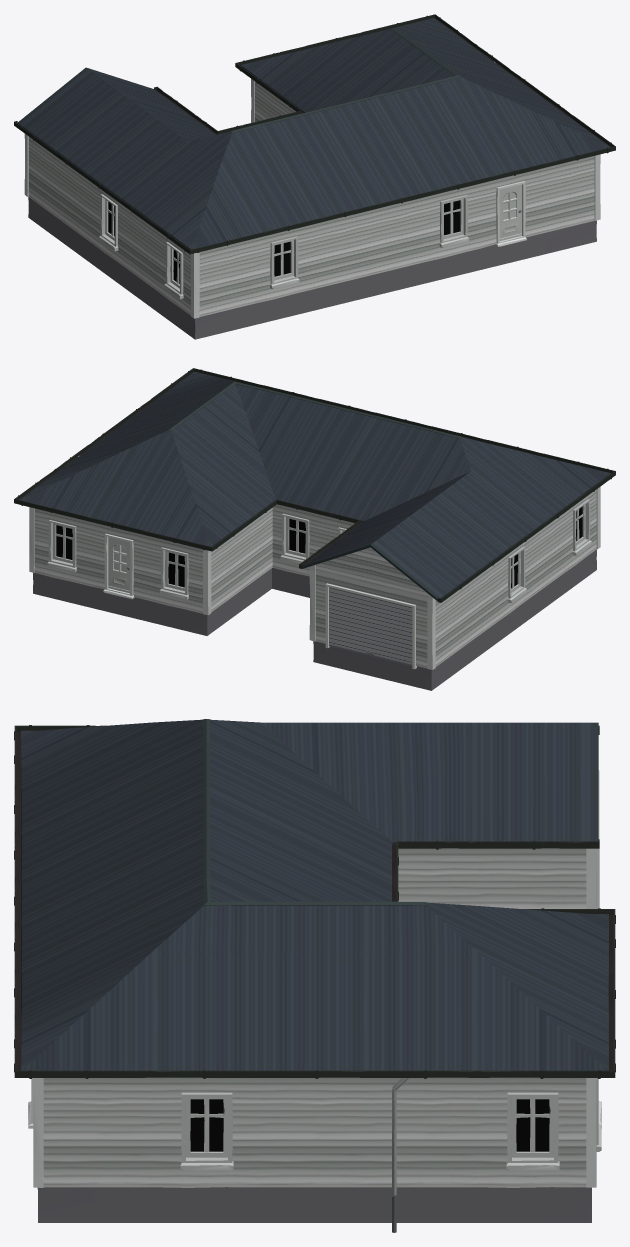
The model's file is Suburban House 3.glb.
The picture shows the model from 3 angles, top to bottom: view 1: azimuth 30°, elevation 25°; view 2: azimuth 150°, elevation 25°; view 3: azimuth 270°, elevation 25°; orthographic projection. The views are drawn at different scales.
Parts seen in each view (by area): view 1: suburban-house_3; view 2: suburban-house_3; view 3: suburban-house_3.
Part boxes in pixels (box(x1,y1,x2,y2)): suburban-house_3: box(14, 14, 615, 339); suburban-house_3: box(14, 368, 615, 690); suburban-house_3: box(14, 719, 615, 1232).
Bounding box in the file's own units: 1 × 0.3396 × 0.735.
Materials: 1 (1 with a texture image).
